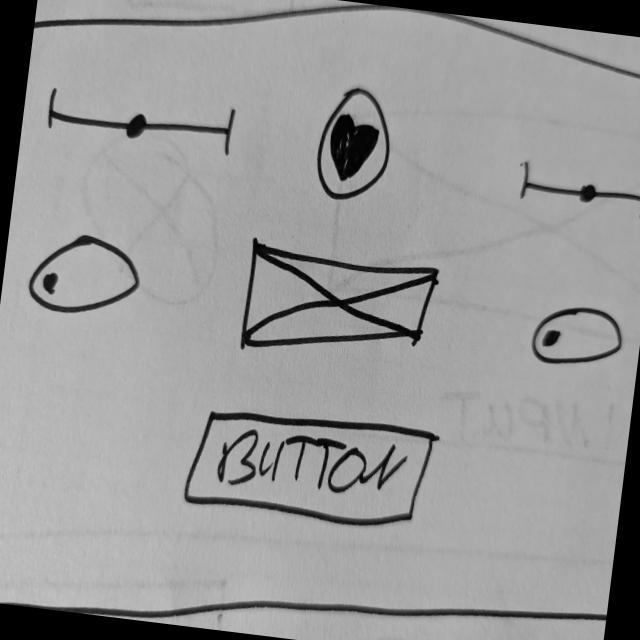button: (180, 398, 439, 539)
container: (1, 1, 640, 640)
icon-button: (309, 82, 402, 212)
image: (235, 239, 445, 378)
slider: (43, 81, 241, 159), (516, 159, 640, 225)
toggle: (24, 227, 147, 327), (527, 301, 630, 380)
